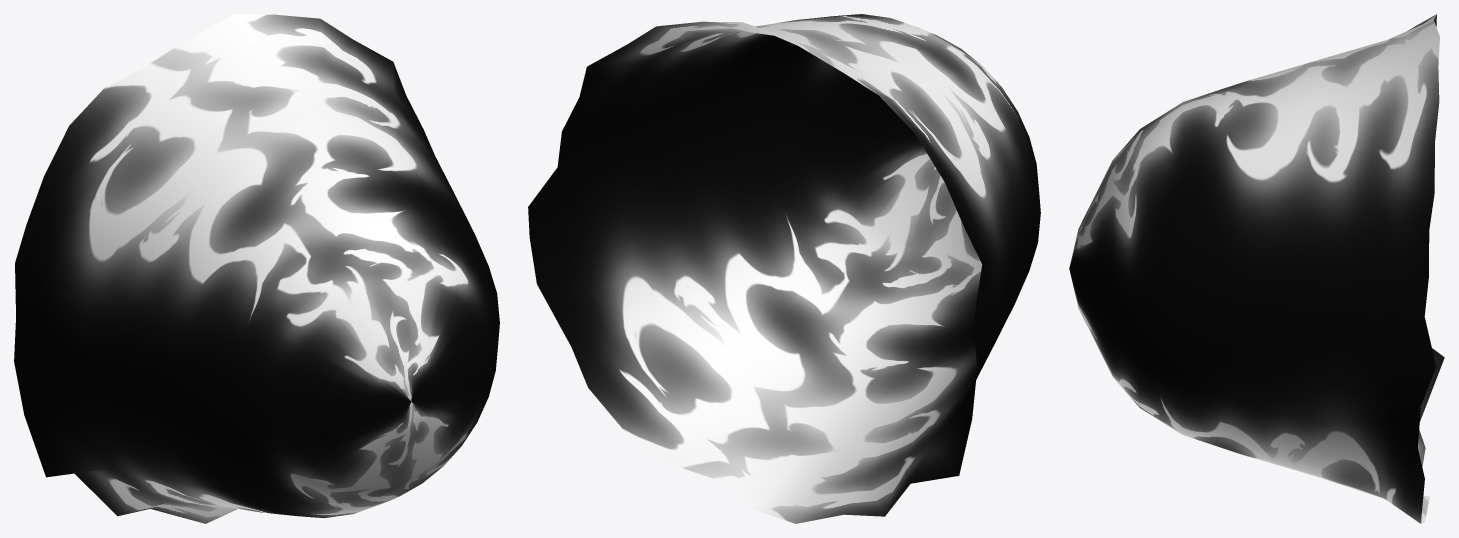
Rendered from FireAura2.fbx.
The picture shows the model from 3 angles, left to right: view 1: azimuth 30°, elevation 25°; view 2: azimuth 150°, elevation 25°; view 3: azimuth 270°, elevation 25°; orthographic projection. The views are drawn at different scales.
Parts seen in each view (by area): view 1: FireAuraSphere; view 2: FireAuraSphere; view 3: FireAuraSphere.
Boxes of the visible parts, box(x1,y1,x2,y2) form: FireAuraSphere: box(14, 14, 499, 523); FireAuraSphere: box(528, 14, 1040, 523); FireAuraSphere: box(1069, 14, 1444, 523).
Size of the model in its own units: 59.97 by 63.05 by 44.83.
Materials: 1 (1 with a texture image).
